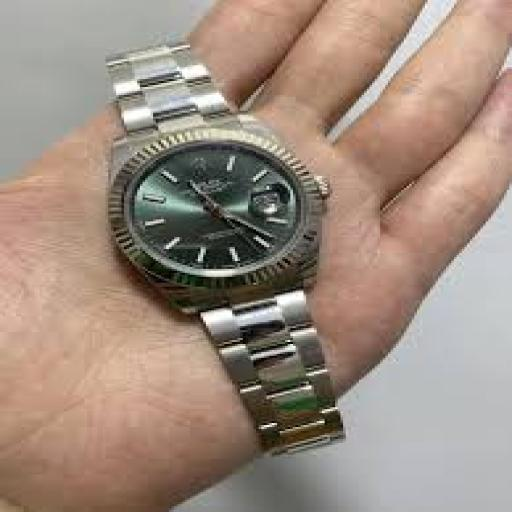KolSaati: (51, 20, 433, 464)
